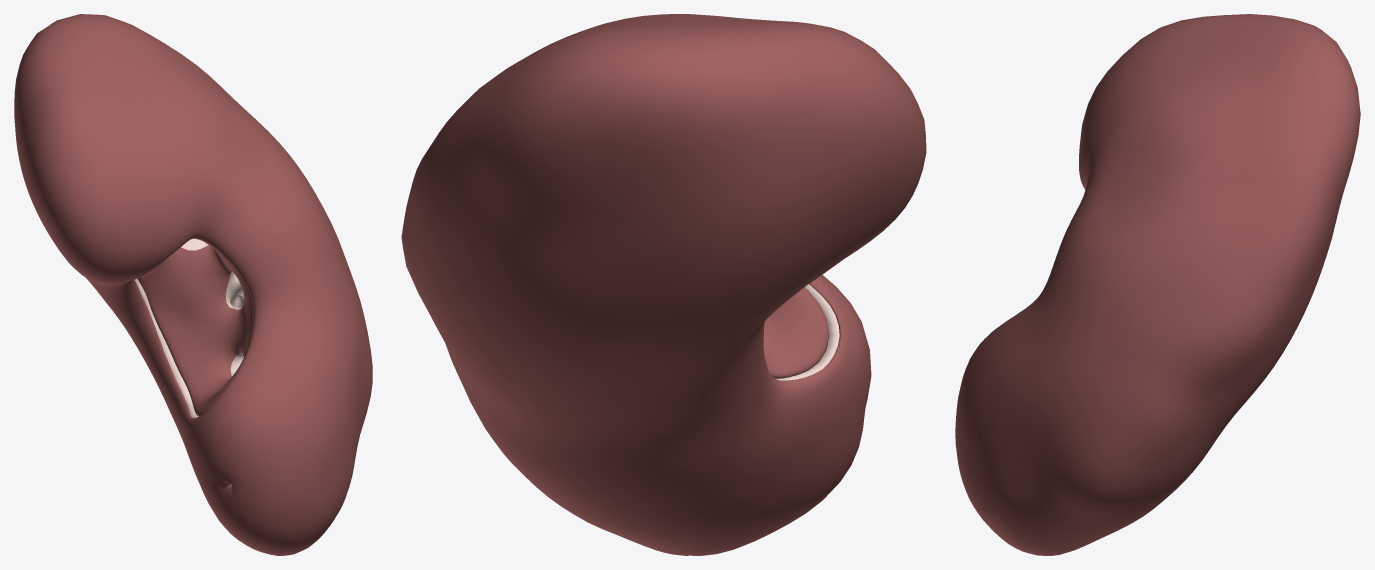
Rendered from kidney-l.glb.
The picture shows the model from 3 angles, left to right: view 1: azimuth 30°, elevation 25°; view 2: azimuth 150°, elevation 25°; view 3: azimuth 270°, elevation 25°; orthographic projection. The views are drawn at different scales.
Visible parts, largest first — view 1: VH_M_kidney_capsule_L, VH_M_hilum_of_kidney_L, VH_M_renal_column_L, VH_M_outer_cortex_of_kidney_L; view 2: VH_M_kidney_capsule_L, VH_M_hilum_of_kidney_L, VH_M_outer_cortex_of_kidney_L; view 3: VH_M_kidney_capsule_L.
Part boxes in pixels (x1,y1,x2,y2): VH_M_kidney_capsule_L: [14, 14, 372, 555]; VH_M_hilum_of_kidney_L: [137, 238, 253, 416]; VH_M_renal_column_L: [181, 238, 244, 375]; VH_M_outer_cortex_of_kidney_L: [135, 278, 198, 417]; VH_M_kidney_capsule_L: [401, 14, 926, 555]; VH_M_hilum_of_kidney_L: [763, 287, 829, 378]; VH_M_outer_cortex_of_kidney_L: [776, 284, 839, 380]; VH_M_kidney_capsule_L: [955, 14, 1360, 555].
Bounding box in the file's own units: 0.0757 × 0.1065 × 0.0824.
